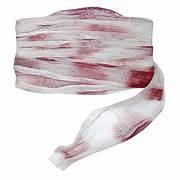cotton: (14, 7, 163, 168)
